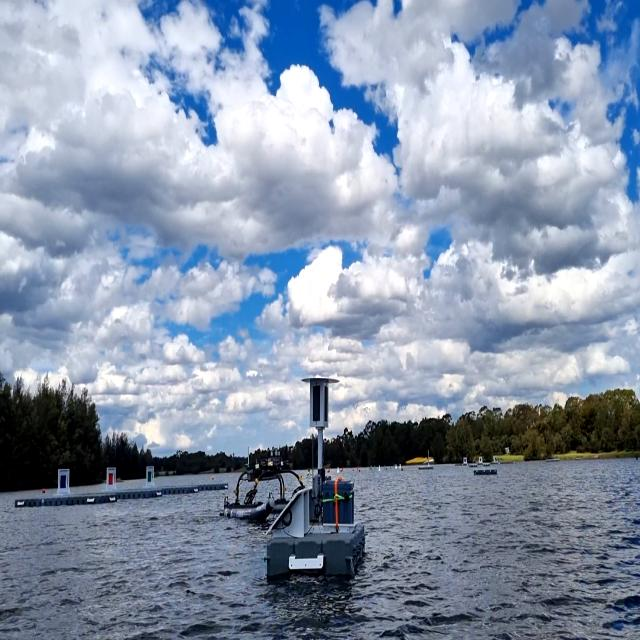led: (311, 384, 322, 425)
